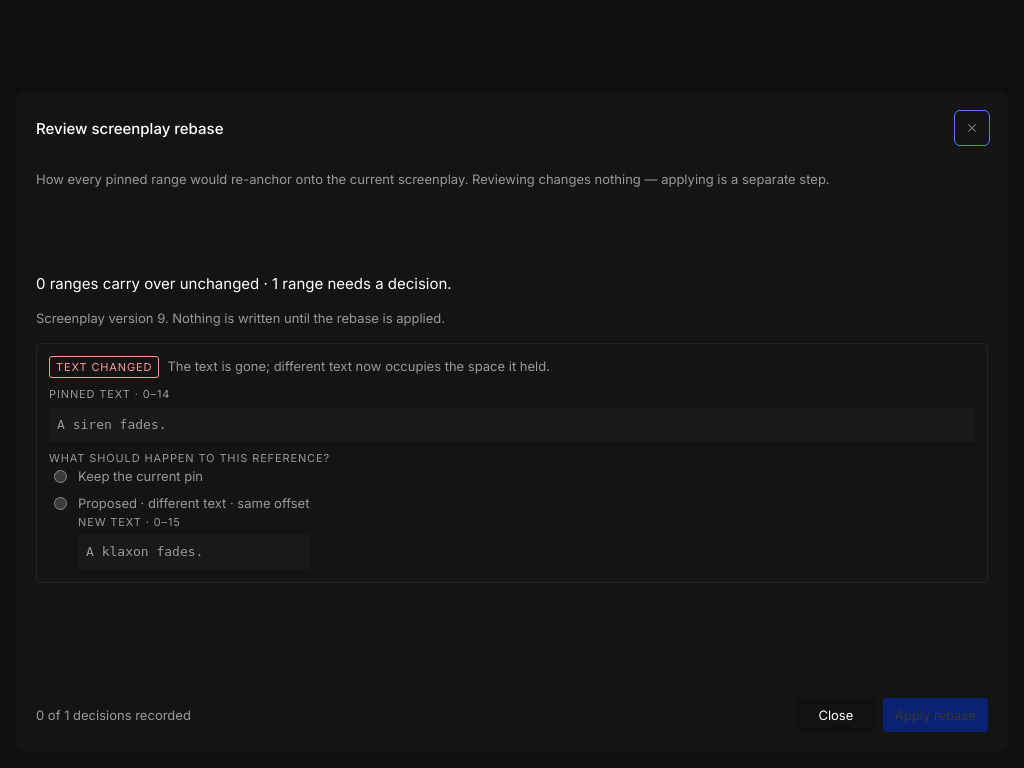
Test case: reviewing a rebase writes nothing › records a decision locally without sending anything
Expected: the text "0 ranges carry over unchanged · 1 range needs a decision." is shown, [36, 274, 452, 293]
Expected: the text "0 of 1 decisions recorded" is shown, [36, 707, 191, 723]
Click the radio button labelled "Keep the current pin".
click(60, 476)  # box [54, 470, 67, 483]
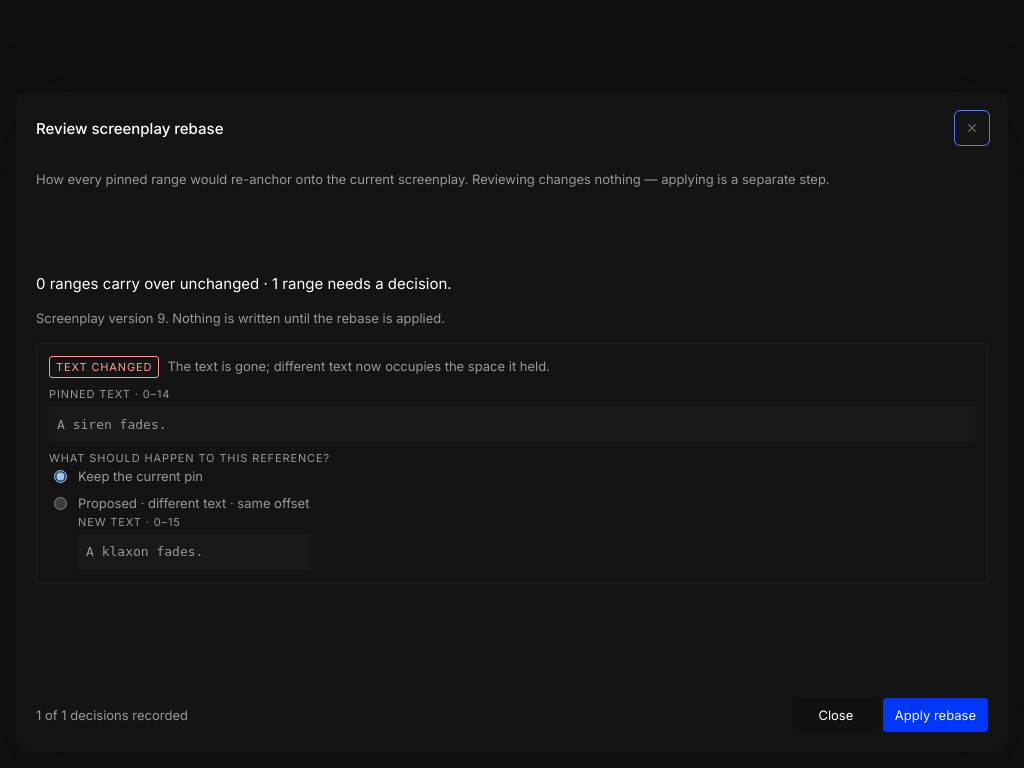
Expected: the text "1 of 1 decisions recorded" is shown, [36, 707, 188, 723]
